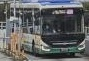bus: (65, 8, 73, 15)
